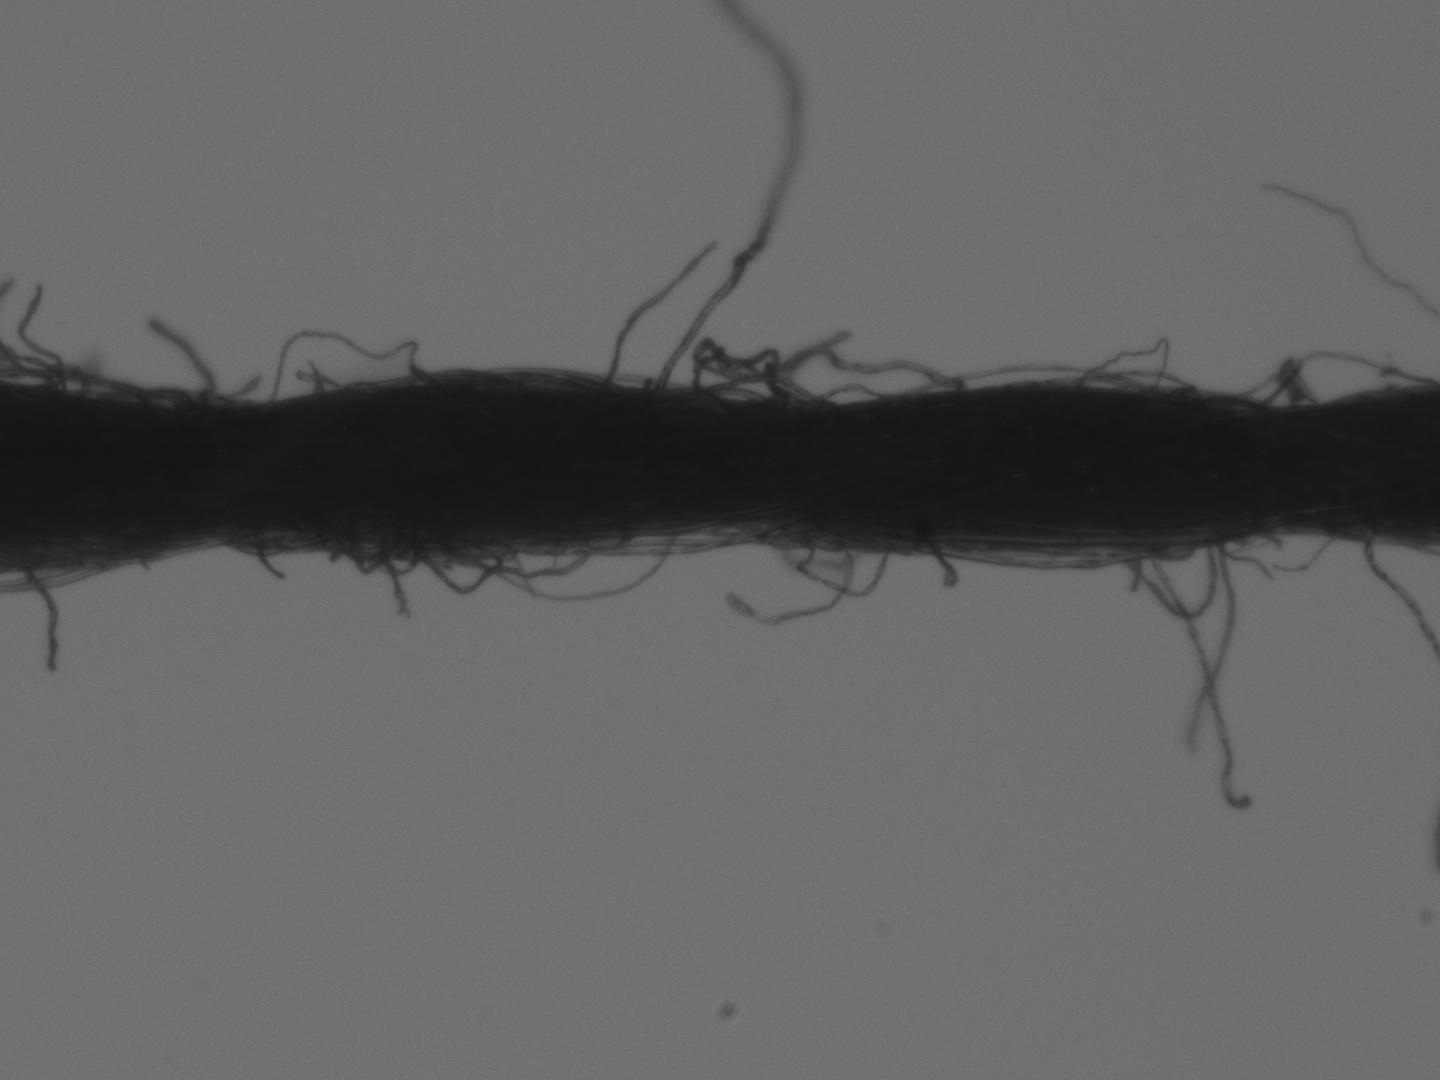loop_fiber: (770, 340, 983, 416), (265, 326, 447, 414), (427, 530, 592, 598), (1108, 532, 1221, 619), (788, 524, 899, 602), (1069, 331, 1179, 406), (688, 330, 787, 411), (594, 518, 763, 564), (1221, 352, 1331, 415), (344, 525, 424, 585), (293, 354, 353, 399)
protruding_fiber: (583, 226, 732, 412), (137, 309, 220, 416), (15, 556, 63, 677)
